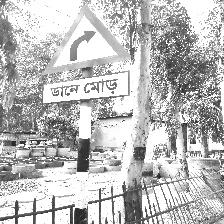Right-turn: (40, 4, 133, 109)
